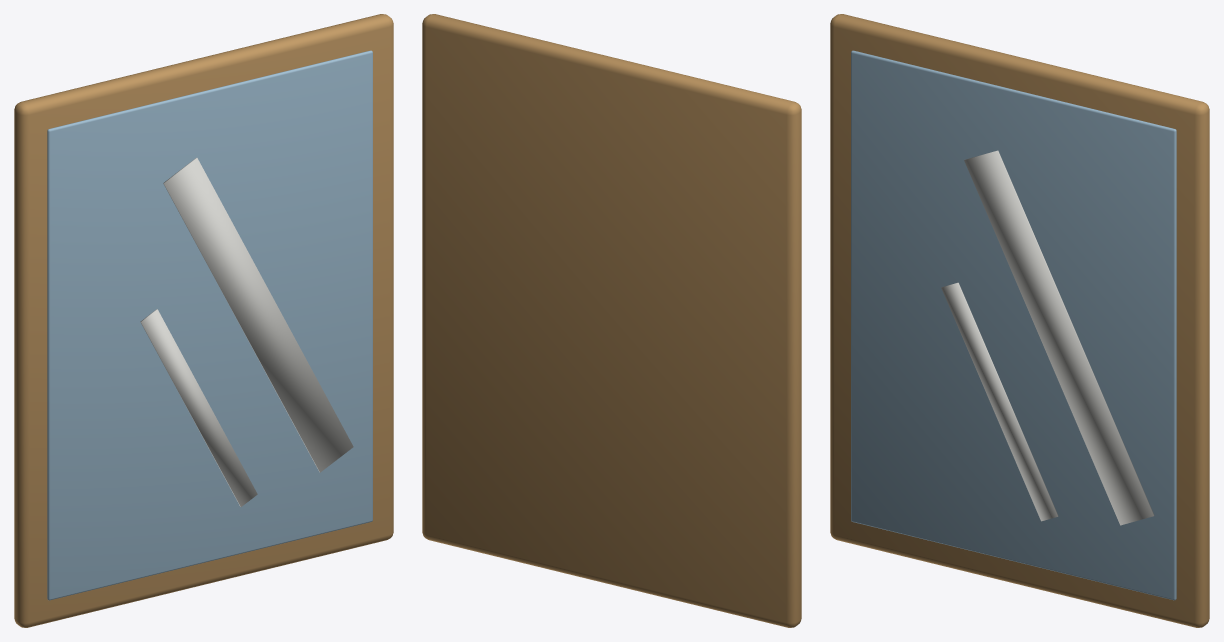
The model's file is bathroom_mirror.glb.
The picture shows the model from 3 angles, left to right: view 1: azimuth 30°, elevation 25°; view 2: azimuth 150°, elevation 25°; view 3: azimuth 330°, elevation 25°; orthographic projection.
Parts seen in each view (by area): view 1: bathroom_mirror; view 2: bathroom_mirror; view 3: bathroom_mirror.
Part boxes in pixels (x1,y1,x2,y2): bathroom_mirror: (14,14,393,627); bathroom_mirror: (422,14,801,627); bathroom_mirror: (830,14,1209,627).
Bounding box in the file's own units: 0.6 × 0.8 × 0.037.
